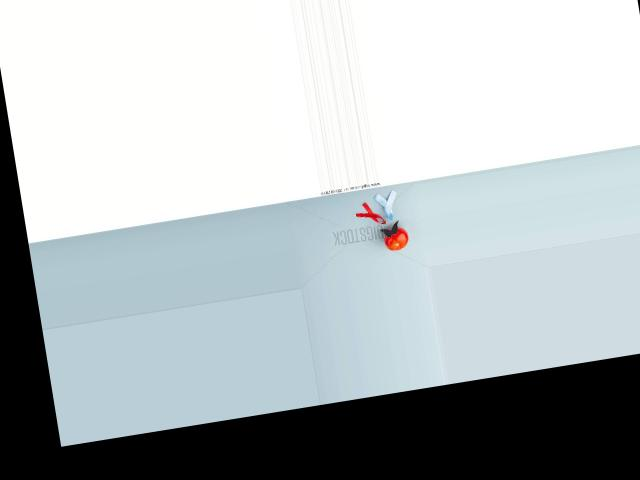tomato: (382, 225, 409, 251)
